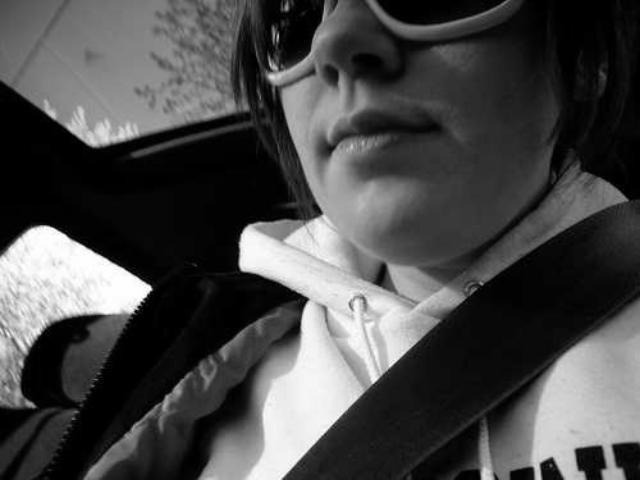Seatbelt: (278, 194, 640, 480)
